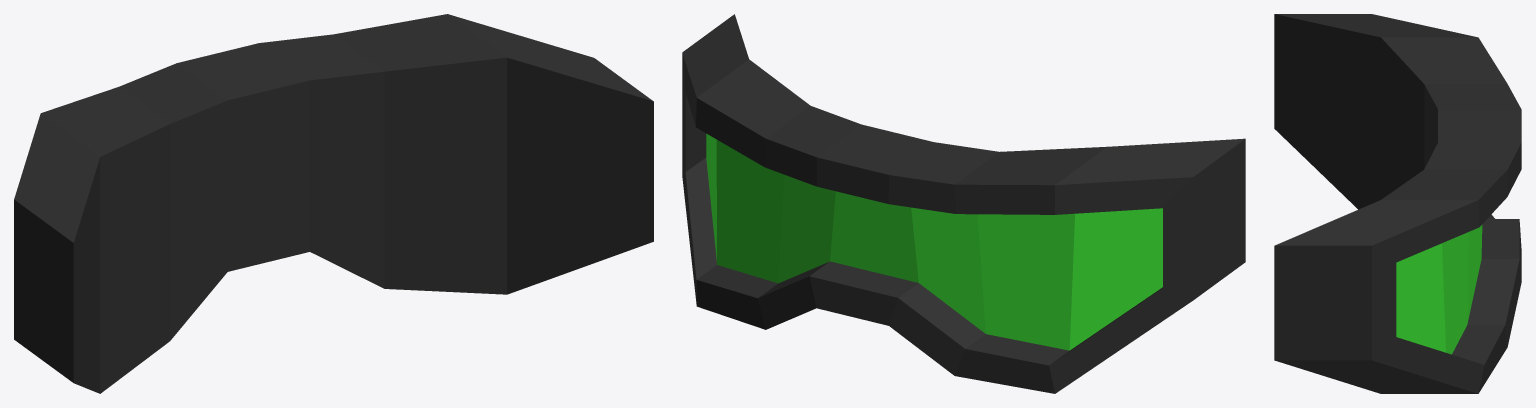
The model's file is Vision nocturna.fbx.
The picture shows the model from 3 angles, left to right: view 1: azimuth 30°, elevation 25°; view 2: azimuth 150°, elevation 25°; view 3: azimuth 270°, elevation 25°; orthographic projection. The views are drawn at different scales.
Parts seen in each view (by area): view 1: Cube; view 2: Cube; view 3: Cube.
Part boxes in pixels (bbox=[...]): Cube: bbox=[14, 14, 653, 393]; Cube: bbox=[682, 14, 1245, 393]; Cube: bbox=[1274, 14, 1521, 393].
Size of the model in its own units: 379 by 148 by 171.
